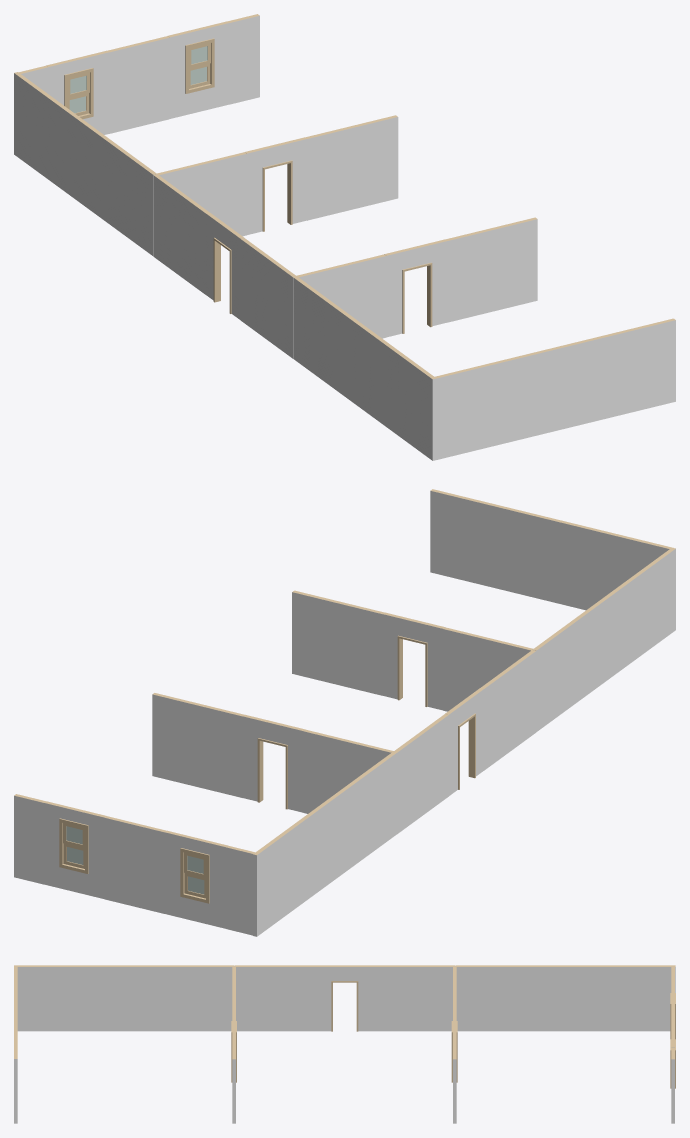
The model's file is Stagewall2.gltf.
The picture shows the model from 3 angles, top to bottom: view 1: azimuth 30°, elevation 25°; view 2: azimuth 150°, elevation 25°; view 3: azimuth 270°, elevation 25°; orthographic projection. The views are drawn at different scales.
Parts seen in each view (by area): view 1: 壁.001, 窓壁2.002, ドア壁.001, ドア壁2.005, 壁2.001, 壁2.002, ドア壁2.004; view 2: 窓壁2.002, 壁.001, ドア壁.001, ドア壁2.005, 壁2.002, 壁2.001, ドア壁2.004; view 3: 壁2.001, 壁2.002, ドア壁2.004, 窓壁2.002, ドア壁.001, ドア壁2.005, 壁.001.
Boxes of the visible parts, x1,y1,x2,y2 form: 壁.001: [434, 318, 675, 460]; 窓壁2.002: [19, 14, 259, 134]; ドア壁.001: [155, 115, 398, 236]; ドア壁2.005: [296, 217, 537, 338]; 壁2.001: [293, 276, 435, 460]; 壁2.002: [14, 72, 156, 256]; ドア壁2.004: [153, 175, 296, 358]; 窓壁2.002: [14, 794, 254, 935]; 壁.001: [430, 489, 673, 610]; ドア壁.001: [152, 693, 395, 813]; ドア壁2.005: [292, 590, 533, 711]; 壁2.002: [253, 752, 396, 936]; 壁2.001: [532, 547, 675, 731]; ドア壁2.004: [394, 650, 536, 834]; 壁2.001: [14, 965, 234, 1031]; 壁2.002: [455, 965, 675, 1031]; ドア壁2.004: [234, 965, 454, 1031]; 窓壁2.002: [670, 967, 675, 1123]; ドア壁.001: [451, 966, 457, 1123]; ドア壁2.005: [231, 966, 236, 1123]; 壁.001: [14, 967, 17, 1123].
Bounding box in the file's own units: 2.53 × 0.8076 × 7.5.
